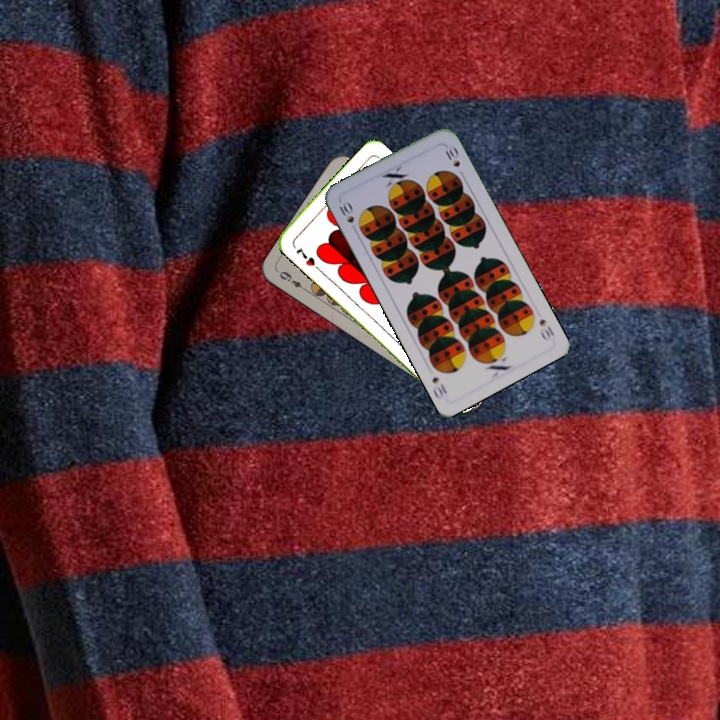E9: (275, 267, 310, 294)
H7: (292, 243, 318, 269)
S10: (335, 197, 360, 235), (535, 315, 557, 343)
